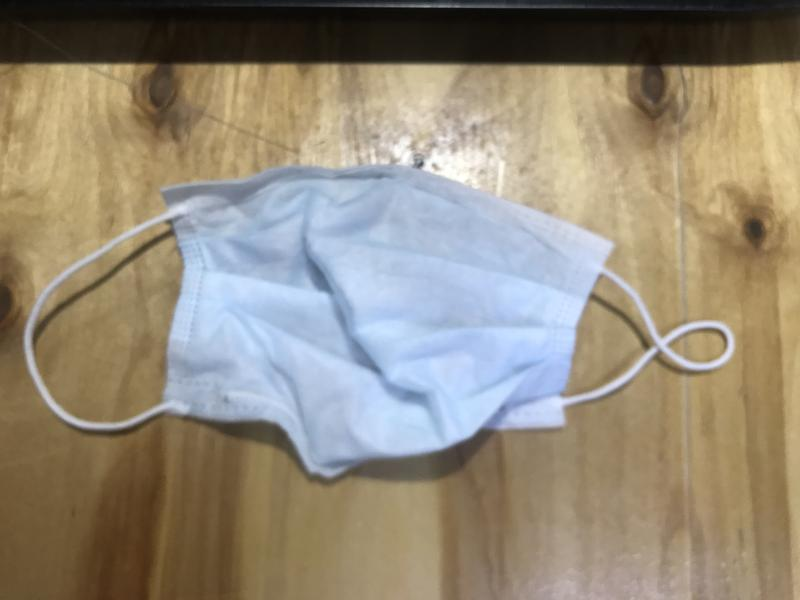medical_mask: (22, 166, 736, 477)
